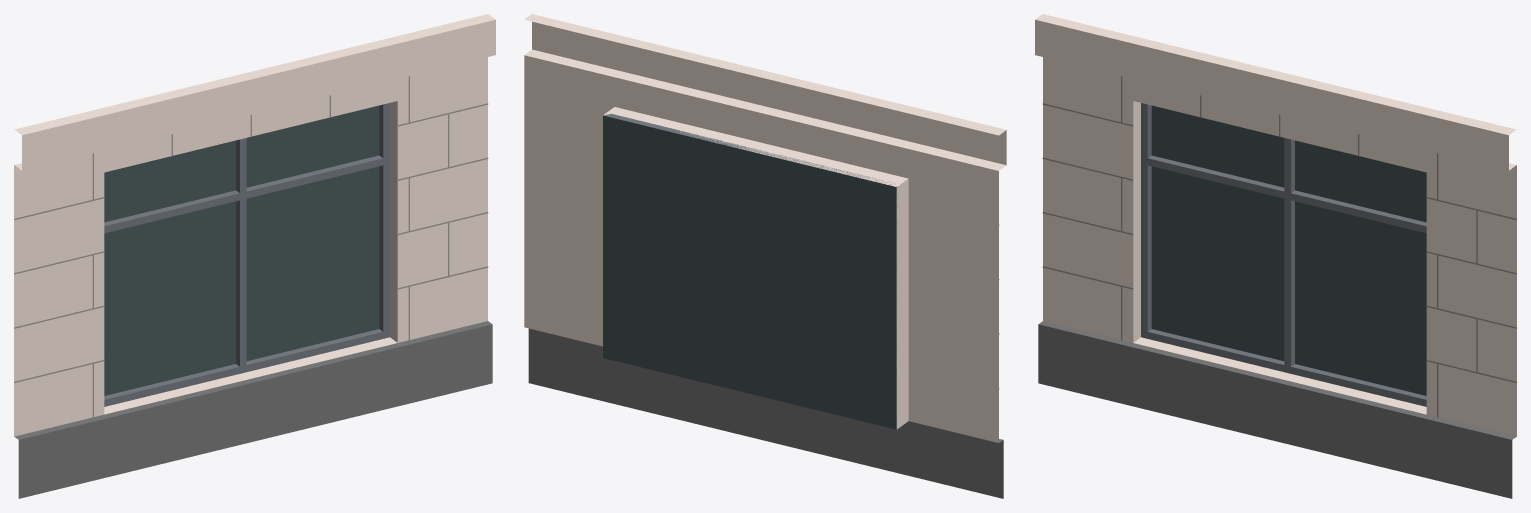
The model's file is base-w1_close.fbx.
The picture shows the model from 3 angles, left to right: view 1: azimuth 30°, elevation 25°; view 2: azimuth 150°, elevation 25°; view 3: azimuth 330°, elevation 25°; orthographic projection.
Parts seen in each view (by area): view 1: a2007/500/base-w1_close; view 2: a2007/500/base-w1_close; view 3: a2007/500/base-w1_close.
Boxes of the visible parts, <box> form: a2007/500/base-w1_close: <box>14,14,495,498</box>; a2007/500/base-w1_close: <box>524,14,1006,498</box>; a2007/500/base-w1_close: <box>1035,14,1516,498</box>.
Bounding box in the file's own units: 4.2 × 3.1 × 0.3.
